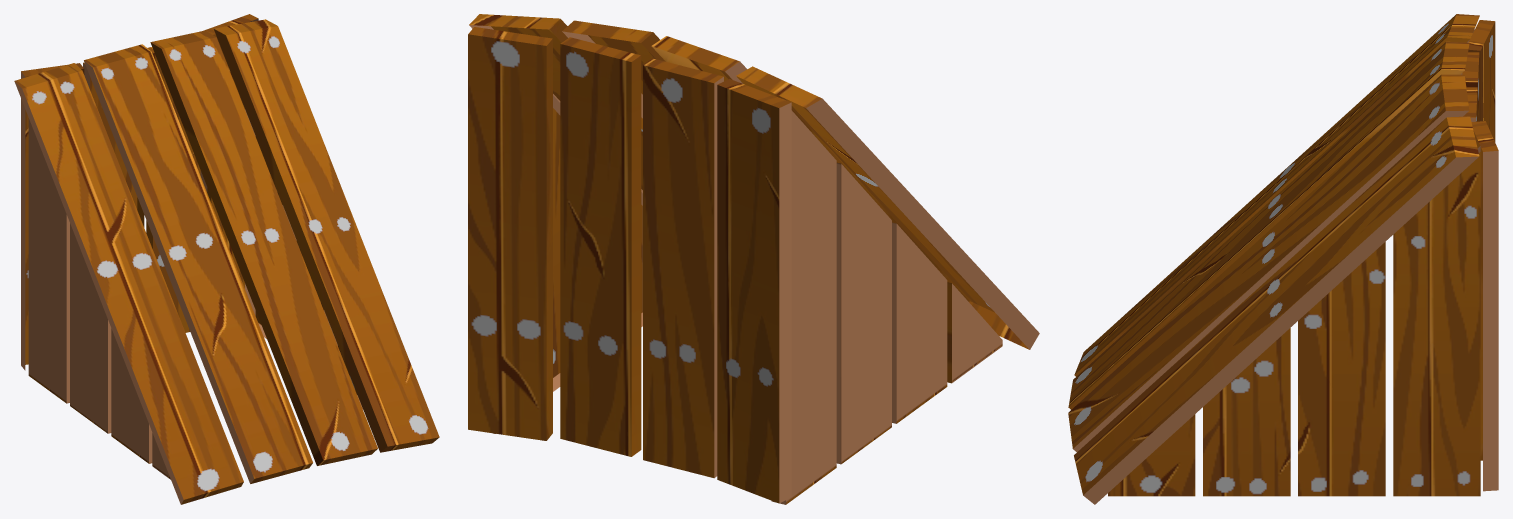
File: ramp (2).fbx
3 views of the same model, side by side, from view 1: azimuth 30°, elevation 25°; view 2: azimuth 150°, elevation 25°; view 3: azimuth 270°, elevation 25° (orthographic). The views are drawn at different scales.
Visible parts, largest first — view 1: ramp; view 2: ramp; view 3: ramp.
Boxes of the visible parts, box(x1,y1,x2,y2) form: ramp: box(14, 14, 439, 504); ramp: box(468, 14, 1039, 504); ramp: box(1068, 14, 1498, 504).
Bounding box in the file's own units: 89.59 × 105 × 113.
